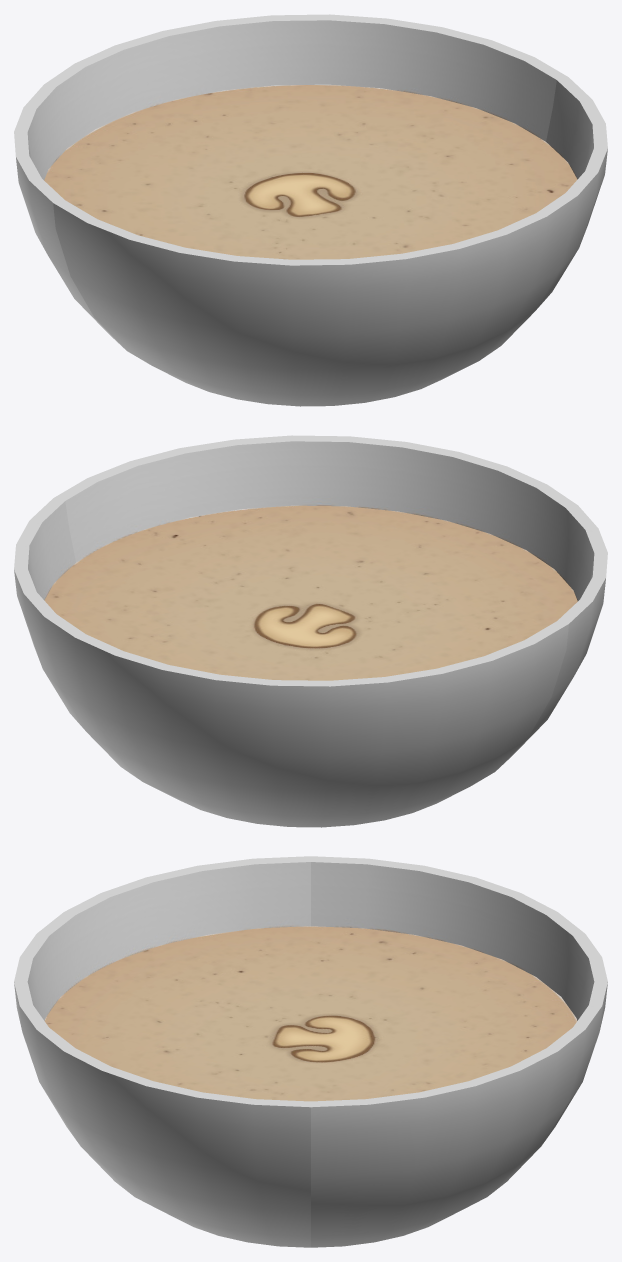
Rendered from Cream Soup.fbx.
The picture shows the model from 3 angles, top to bottom: view 1: azimuth 30°, elevation 25°; view 2: azimuth 150°, elevation 25°; view 3: azimuth 270°, elevation 25°; orthographic projection.
Visible parts, largest first — view 1: CreamSoup_1; view 2: CreamSoup_1; view 3: CreamSoup_1.
Boxes of the visible parts, bbox=[...] form: CreamSoup_1: bbox=[14, 14, 607, 406]; CreamSoup_1: bbox=[14, 435, 607, 827]; CreamSoup_1: bbox=[14, 856, 607, 1247].
Bounding box in the file's own units: 57.86 × 21.03 × 57.86.
